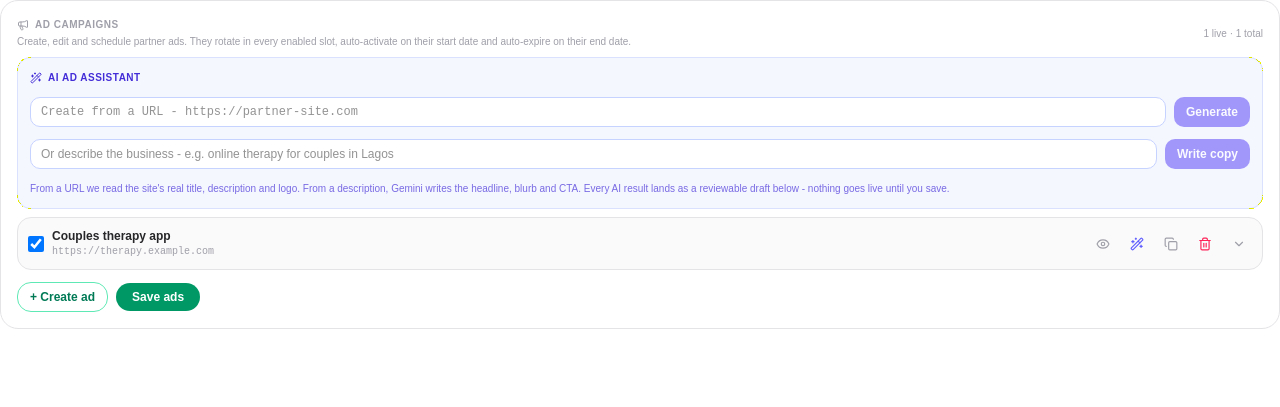
Test: AdCampaignManager (admin) › duplicates an existing ad as a reviewable copy
The image size is (1280, 407).
Click the button titled "Duplicate ad" at [1171, 244], box [1158,230,1184,256]
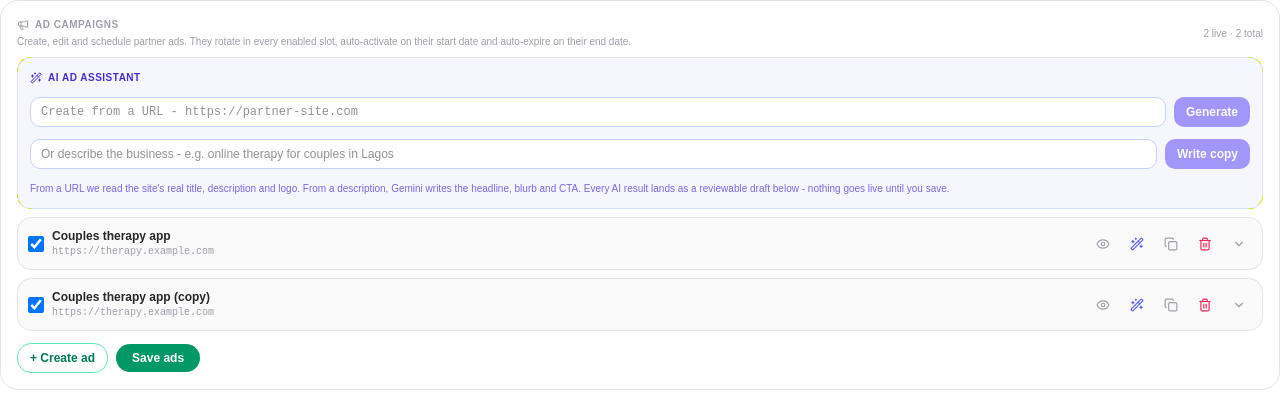
Result: the text "Couples therapy app (copy)" is shown at [52,290,210,304]
